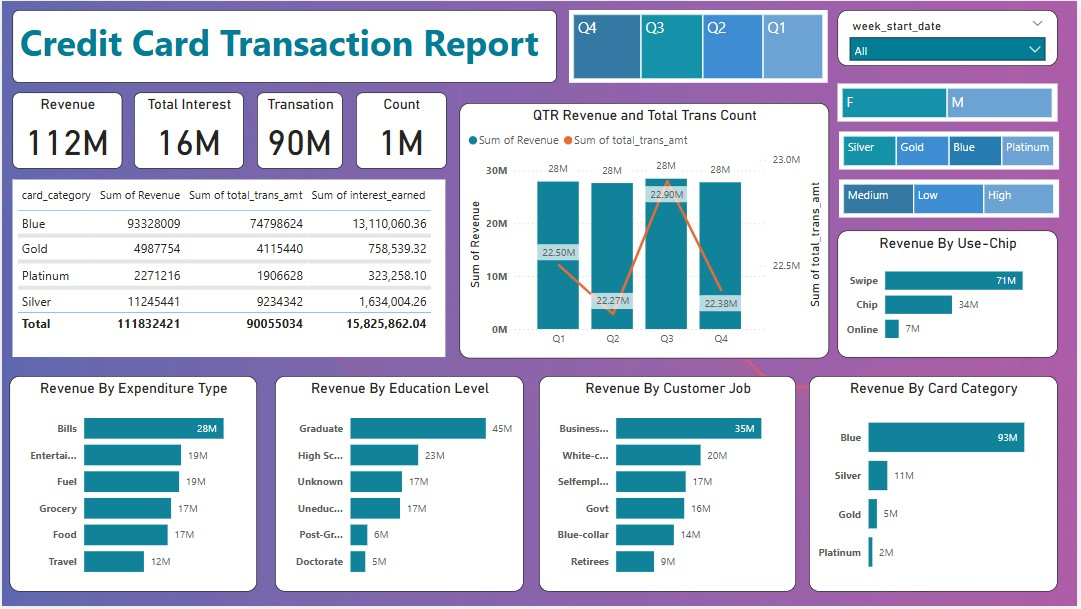

The page's visual inventory and layout, read from the dashboard file:
{"tool":"powerbi","page":{"name":"Credit Card Transaction Report","canvas":[1280,720],"ordinal":1},"visuals":[{"type":"textbox","box":[13.3,11.7,636.7,66.7],"z":0},{"type":"lineStackedColumnComboChart","title":"QTR Revenue and Total Trans Count","fields":{"Category":["public cc_detail.qtr"],"Y":["Sum(public cc_detail.Revenue)"],"Y2":["Sum(public cc_detail.total_trans_amt)"]},"box":[544.9,97.6,439.2,326.9],"z":1000},{"type":"barChart","title":"Revenue By Expenditure Type","fields":{"Y":["Sum(public cc_detail.Revenue)"],"Category":["public cc_detail.exp_type","public cust_detail.education_level"]},"box":[9.8,445.7,294.4,257],"z":2000},{"type":"barChart","title":"Revenue By Education Level","fields":{"Y":["Sum(public cc_detail.Revenue)"],"Category":["public cust_detail.education_level"]},"box":[325.3,445.7,296,257],"z":3000},{"type":"barChart","title":"Revenue By Customer Job","fields":{"Y":["Sum(public cc_detail.Revenue)"],"Category":["public cust_detail.customer_job"]},"box":[639.2,445.7,305.8,257],"z":4000},{"type":"barChart","title":"Revenue By Card Category","fields":{"Y":["Sum(public cc_detail.Revenue)"],"Category":["public cc_detail.card_category"]},"box":[961.3,445.7,296,257],"z":5000},{"type":"barChart","title":"Revenue By Use-Chip","fields":{"Y":["Sum(public cc_detail.Revenue)"],"Category":["public cc_detail.use_chip"]},"box":[995.4,273.3,261.9,151.3],"z":6000},{"type":"tableEx","fields":{"Values":["public cc_detail.card_category","Sum(public cc_detail.Revenue)","Sum(public cc_detail.total_trans_amt)","Sum(public cc_detail.interest_earned)"]},"box":[13,213.1,515.6,211.5],"z":7000},{"type":"card","title":"Revenue","fields":{"Values":["Sum(public cc_detail.Revenue)"]},"box":[13,97.6,112.2,91.1],"z":8000},{"type":"card","title":"Total Interest","fields":{"Values":["Sum(public cc_detail.interest_earned)"]},"box":[138.3,97.6,125.2,91.1],"z":9000},{"type":"card","title":"Transation","fields":{"Values":["Sum(public cc_detail.total_trans_amt)"]},"box":[274.9,97.6,120.4,91.1],"z":10000},{"type":"card","title":"Count","fields":{"Values":["Sum(public cc_detail.total_trans_ct)"]},"box":[408.3,97.6,120.4,91.1],"z":11000},{"type":"slicer","fields":{"Values":["public cc_detail.week_start_date"]},"box":[995.4,11.4,261.9,66.7],"z":11001},{"type":"treemap","fields":{"Group":["public cc_detail.qtr"],"Values":["Avg(public cc_detail.client_num)"]},"box":[661.7,11.7,321.7,66.7],"z":11002},{"type":"treemap","fields":{"Group":["public cust_detail.gender"],"Values":["Avg(public cc_detail.client_num)"]},"box":[995.4,97.6,261.9,45.5],"z":11003},{"type":"treemap","fields":{"Group":["public cc_detail.card_category"],"Values":["Avg(public cc_detail.client_num)"]},"box":[997.1,154.5,261.9,45.5],"z":11004},{"type":"treemap","fields":{"Group":["public cust_detail.IncomeGroup"],"Values":["Avg(public cc_detail.client_num)"]},"box":[997.1,213.1,261.9,45.5],"z":11005}]}

Visuals, with their boxes in screenshot pixels (x1, y1, x2, y2), scaled from the page's 1280x720 canvas onto the 1081x609 screenshot:
textbox: box=[11, 10, 549, 66]
"QTR Revenue and Total Trans Count" lineStackedColumnComboChart: box=[460, 83, 831, 359]
"Revenue By Expenditure Type" barChart: box=[8, 377, 257, 594]
"Revenue By Education Level" barChart: box=[275, 377, 525, 594]
"Revenue By Customer Job" barChart: box=[540, 377, 798, 594]
"Revenue By Card Category" barChart: box=[812, 377, 1062, 594]
"Revenue By Use-Chip" barChart: box=[841, 231, 1062, 359]
tableEx - public cc_detail.card_category x Sum(public cc_detail.Revenue): box=[11, 180, 446, 359]
"Revenue" card: box=[11, 83, 106, 160]
"Total Interest" card: box=[117, 83, 223, 160]
"Transation" card: box=[232, 83, 334, 160]
"Count" card: box=[345, 83, 447, 160]
slicer - public cc_detail.week_start_date: box=[841, 10, 1062, 66]
treemap - public cc_detail.qtr x Avg(public cc_detail.client_num): box=[559, 10, 831, 66]
treemap - public cust_detail.gender x Avg(public cc_detail.client_num): box=[841, 83, 1062, 121]
treemap - public cc_detail.card_category x Avg(public cc_detail.client_num): box=[842, 131, 1063, 169]
treemap - public cust_detail.IncomeGroup x Avg(public cc_detail.client_num): box=[842, 180, 1063, 219]
